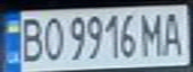1: (103, 11, 121, 60)
6: (118, 10, 139, 58)
9: (63, 12, 87, 62), (84, 11, 106, 61)
A: (157, 8, 187, 57)
B: (15, 15, 45, 63)
M: (136, 9, 166, 57)
O: (39, 14, 66, 63)
